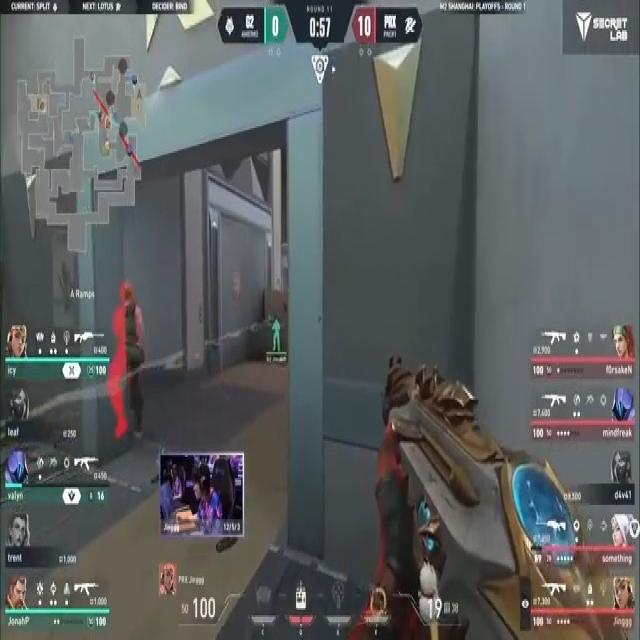ally behind wall: (268, 313, 284, 355)
enemy: (122, 282, 152, 428)
